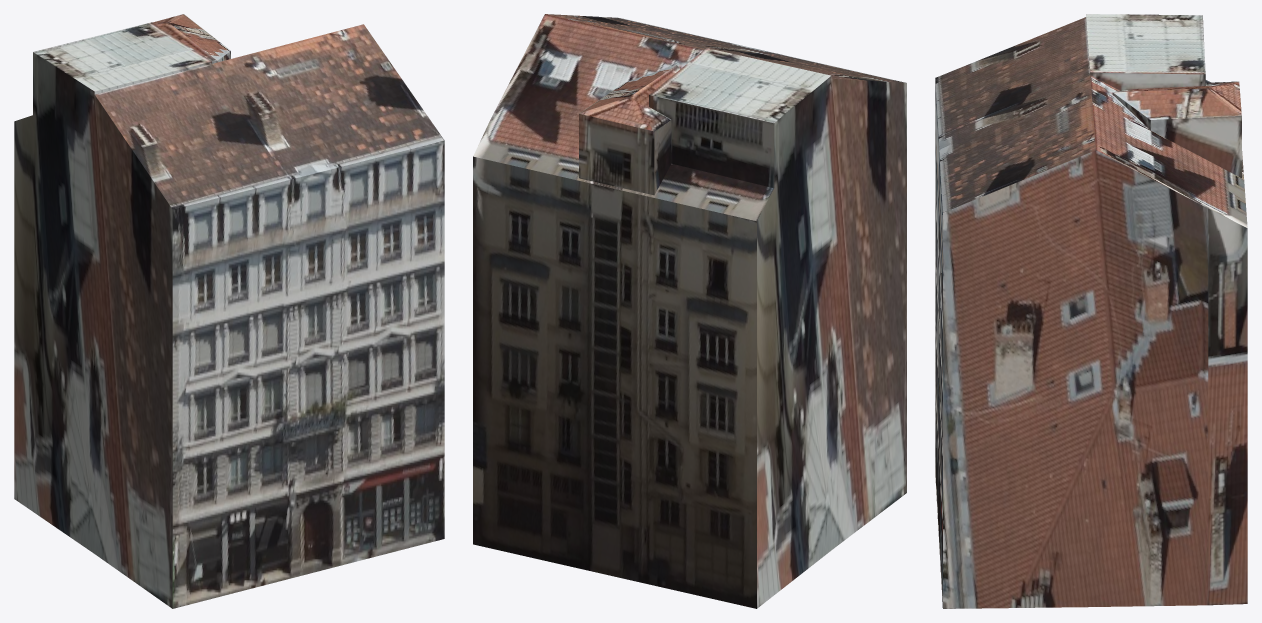
3 views of the same model, side by side, from view 1: azimuth 30°, elevation 25°; view 2: azimuth 150°, elevation 25°; view 3: azimuth 270°, elevation 25° (orthographic). The views are drawn at different scales.
Visible parts, largest first — view 1: Z_UP; view 2: Z_UP; view 3: Z_UP.
Boxes of the visible parts, bbox=[...] form: Z_UP: bbox=[14, 14, 444, 608]; Z_UP: bbox=[473, 14, 906, 608]; Z_UP: bbox=[935, 14, 1247, 608].
Bounding box in the file's own units: 17.35 × 27.19 × 16.73.
2 materials, 1 textured.
